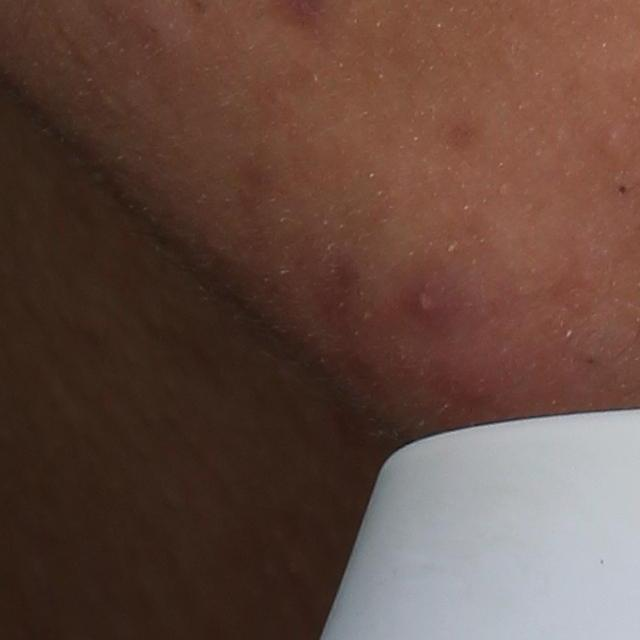comedo: (614, 177, 629, 202)
